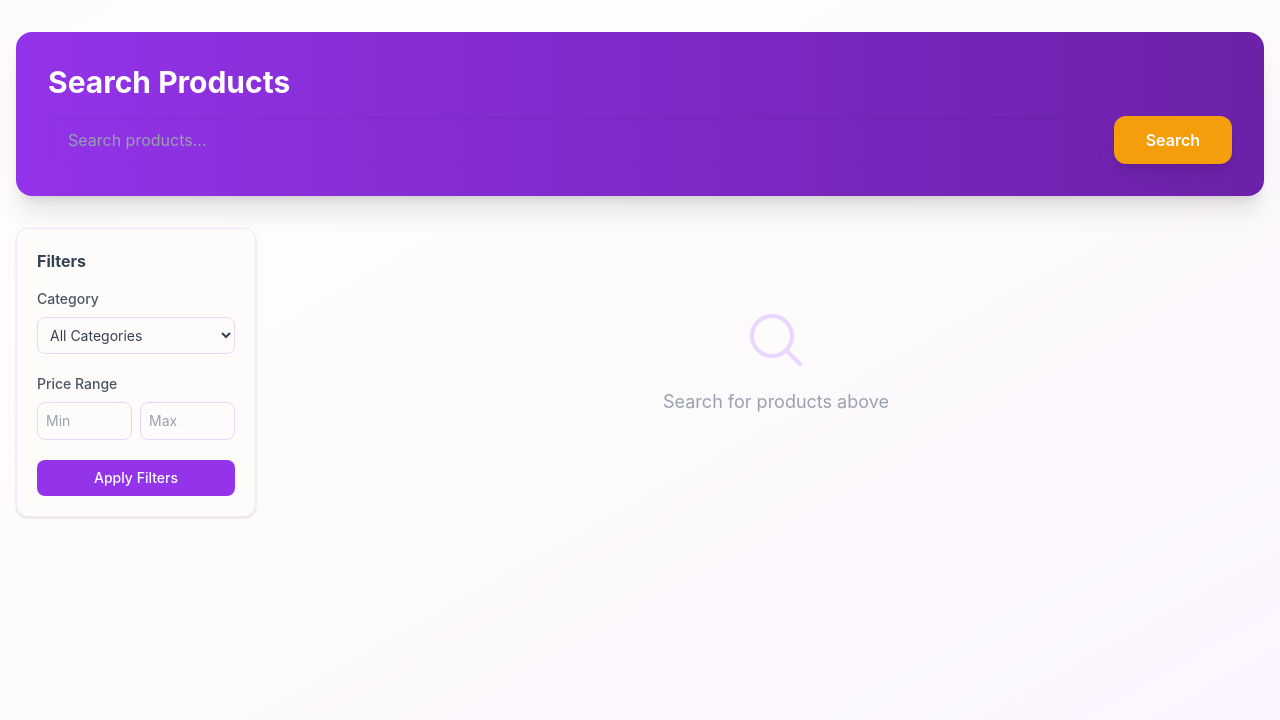
Scenario: SearchPage › renders search input and performs search
Type "headphones" into the field with placeholder "Search products..." at (575, 140), box [48,116,1102,164]
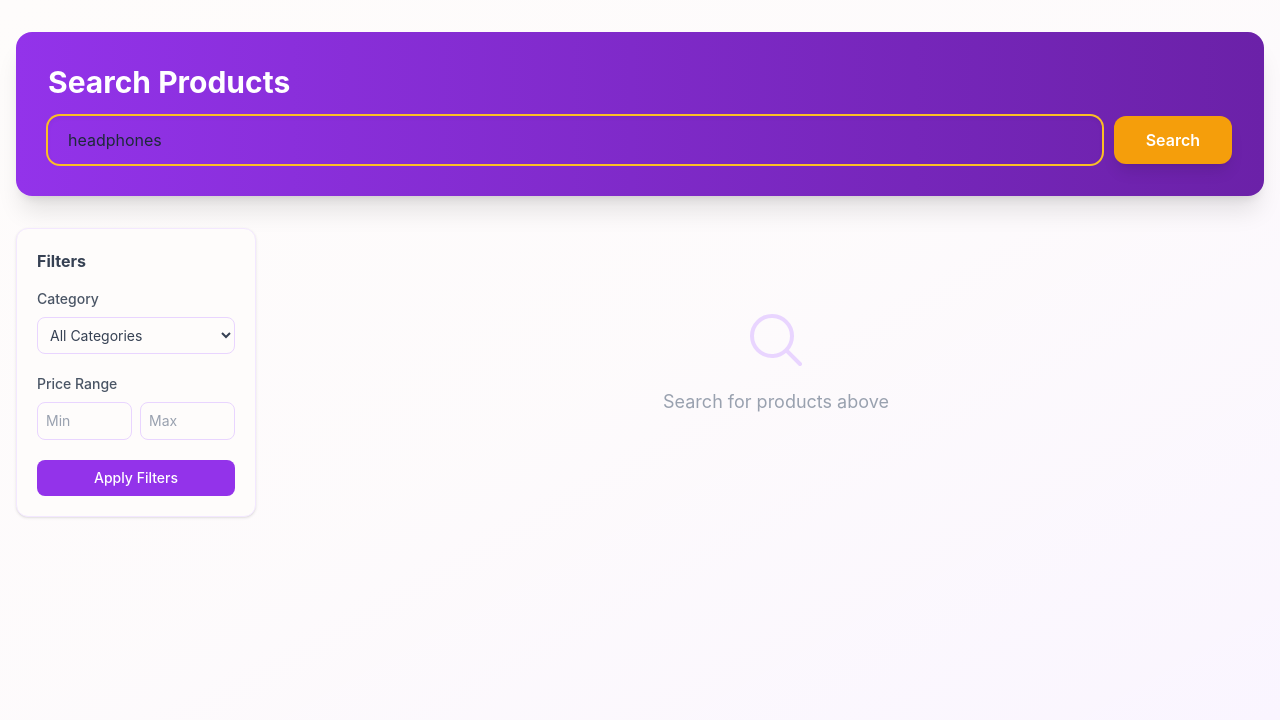
Click the button "Search" at (1173, 140), box [1114,116,1232,164]
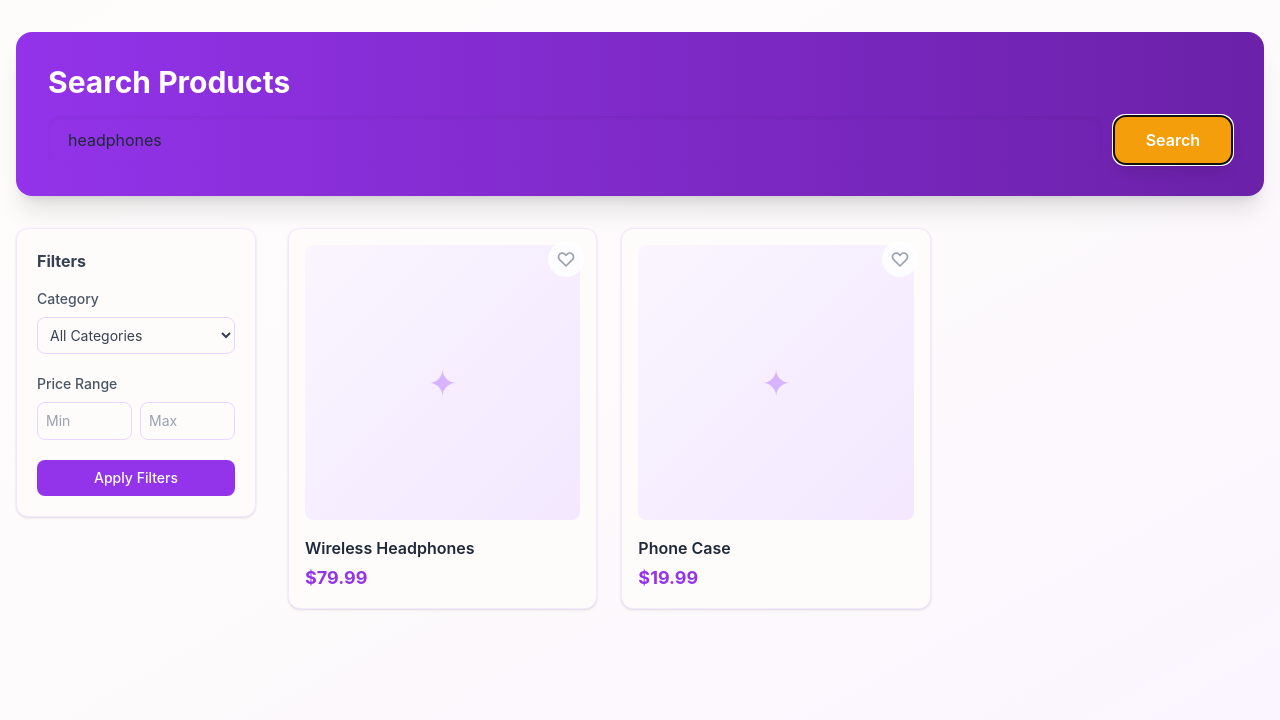
Expected: the heading "Wireless Headphones" is shown, [305,538,474,558]
